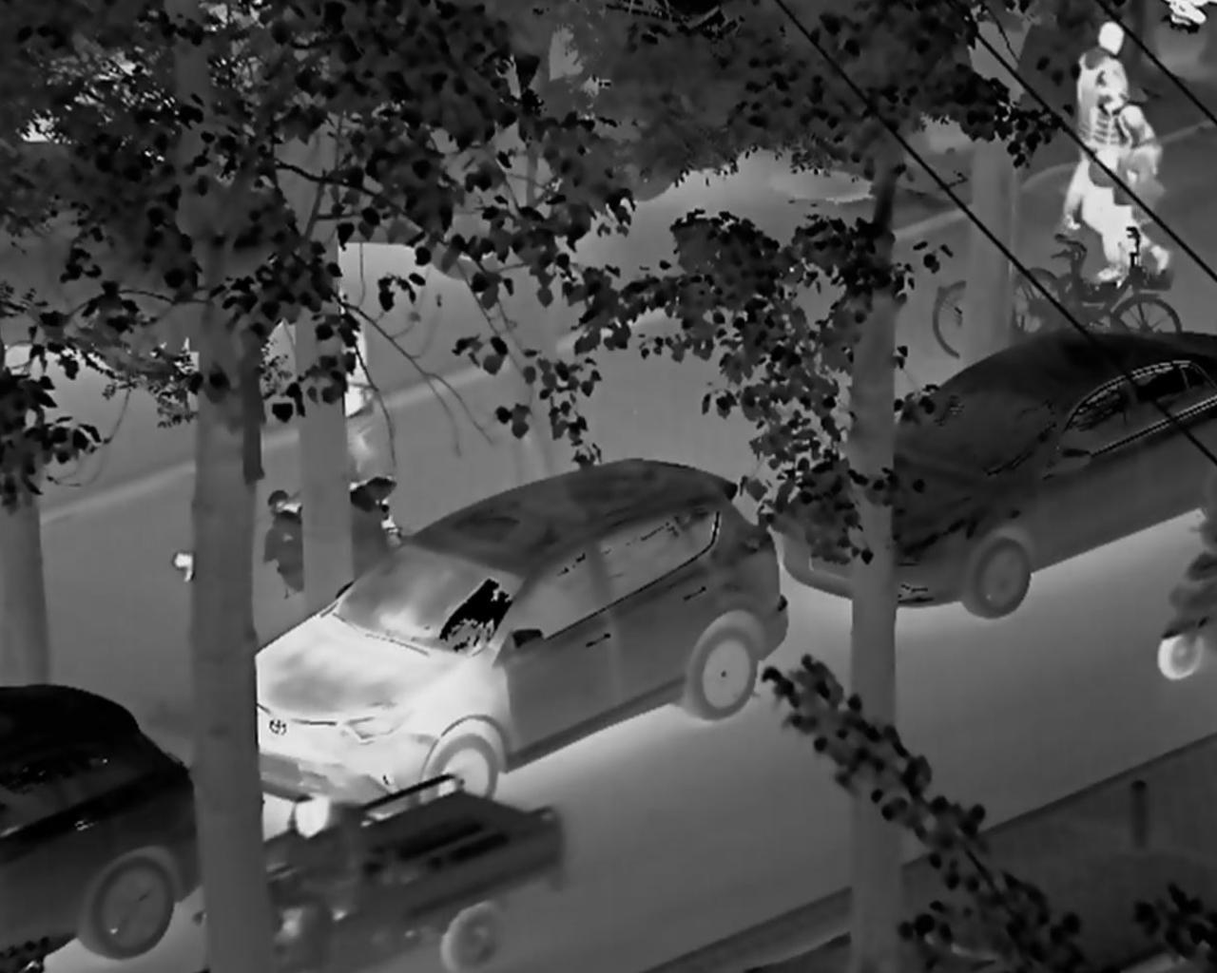person: (1070, 18, 1147, 260), (1087, 71, 1170, 282)
